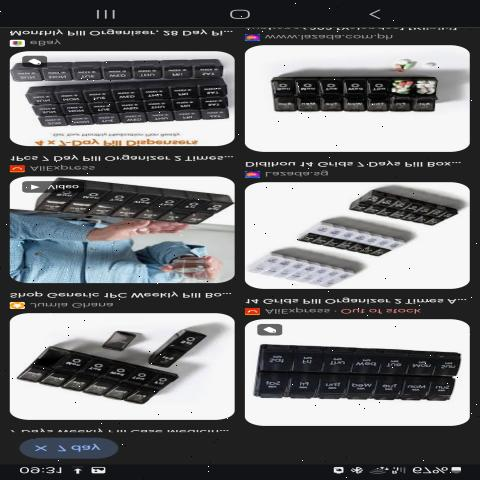PillBox: (20, 78, 246, 146), (253, 340, 468, 407), (258, 64, 462, 123), (16, 179, 234, 232), (20, 348, 182, 406), (326, 187, 464, 230)
